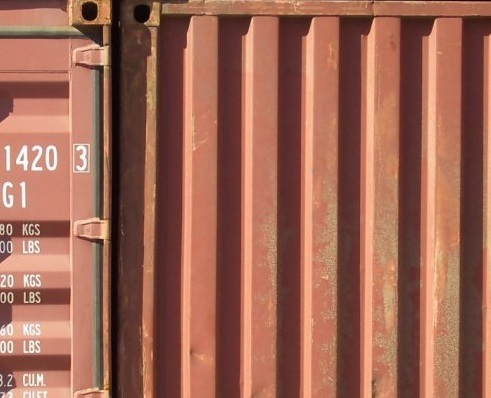container_no_door: (120, 1, 490, 397)
